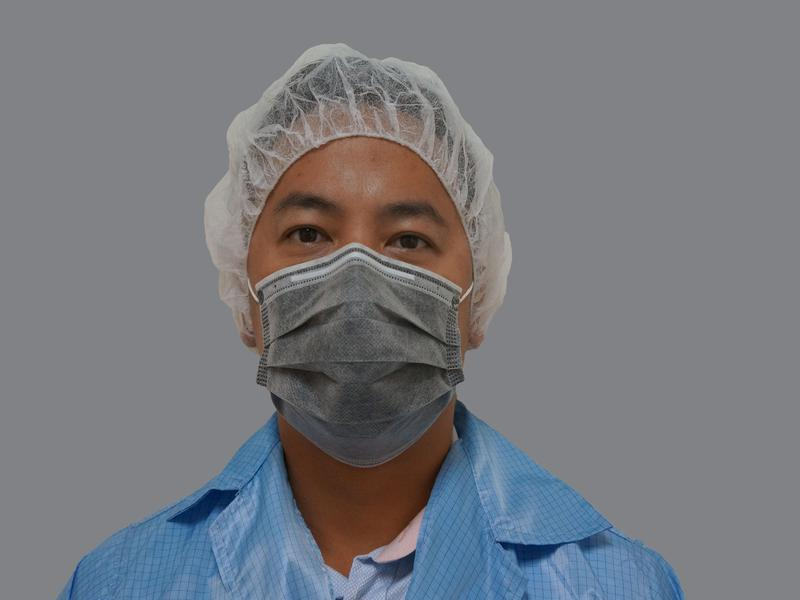with_mask: (242, 136, 471, 472)
